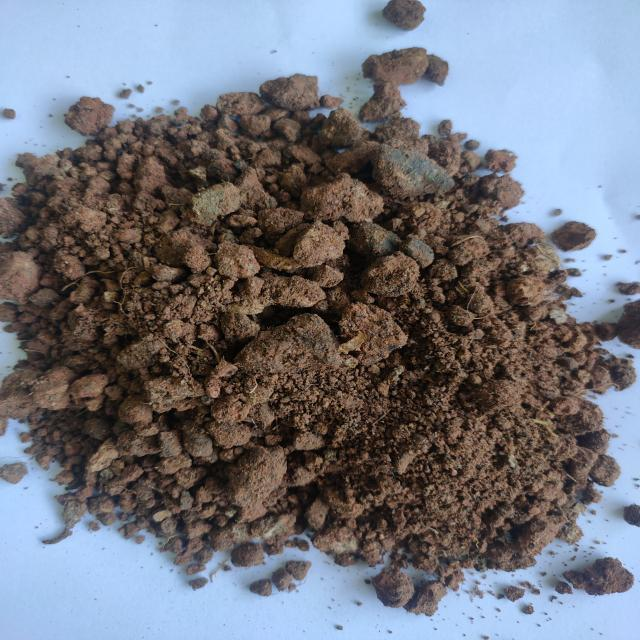soil: (38, 178, 536, 530)
